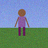person: (15, 9, 29, 35)
